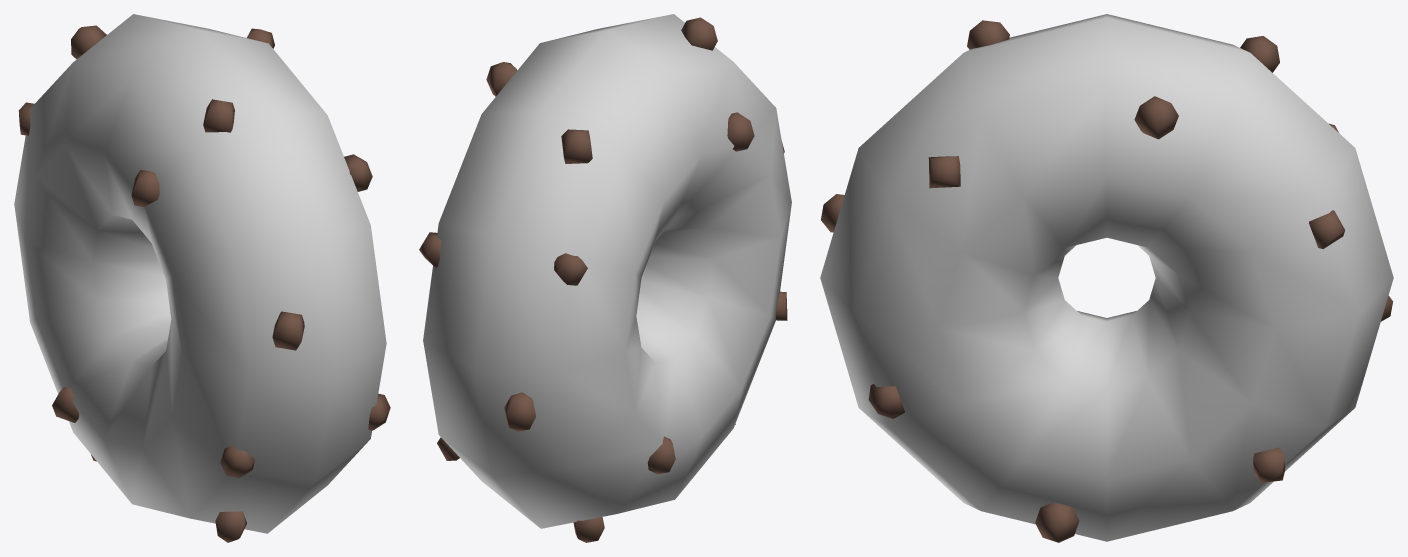
File: donut.fbx
The picture shows the model from 3 angles, left to right: view 1: azimuth 30°, elevation 25°; view 2: azimuth 150°, elevation 25°; view 3: azimuth 270°, elevation 25°; orthographic projection. The views are drawn at different scales.
Parts seen in each view (by area): view 1: Torus.001; view 2: Torus.001; view 3: Torus.001.
Boxes of the visible parts, bbox=[...] form: Torus.001: bbox=[14, 14, 390, 542]; Torus.001: bbox=[419, 14, 791, 542]; Torus.001: bbox=[820, 14, 1393, 542].
Bounding box in the file's own units: 189 × 424 × 424.
